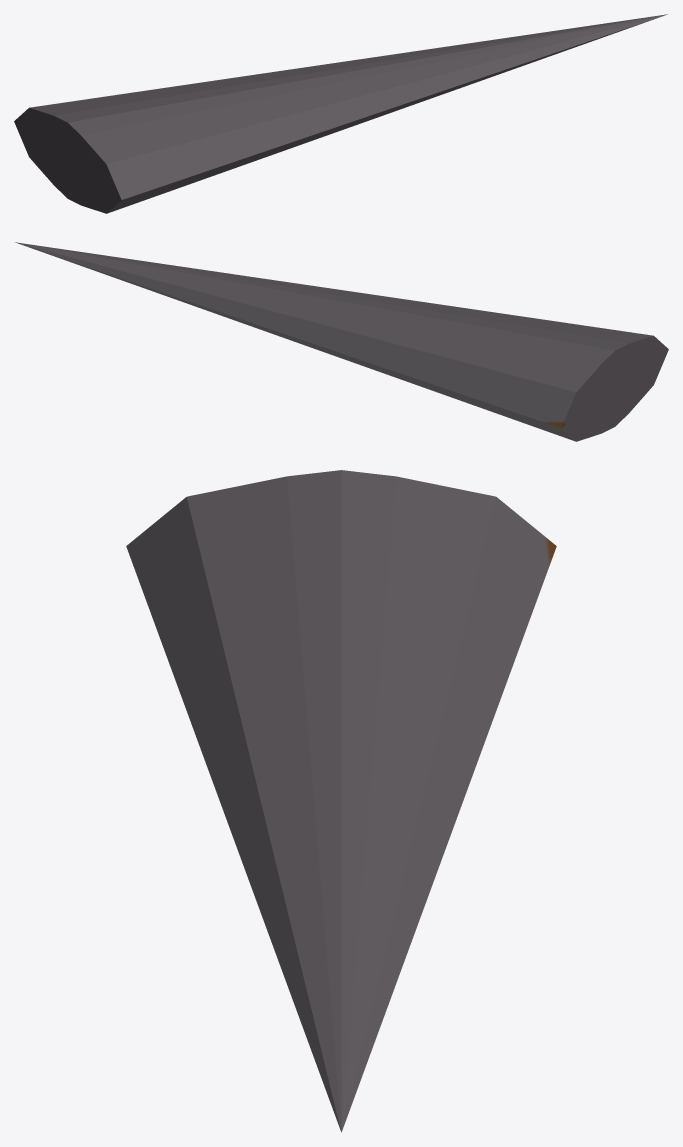
Rendered from Spear_Head.fbx.
3 views of the same model, one above another, from view 1: azimuth 30°, elevation 25°; view 2: azimuth 150°, elevation 25°; view 3: azimuth 270°, elevation 25° (orthographic). The views are drawn at different scales.
Parts seen in each view (by area): view 1: Spear_Head; view 2: Spear_Head; view 3: Spear_Head.
Part boxes in pixels (x1,y1,x2,y2): Spear_Head: (14, 14, 667, 213); Spear_Head: (15, 242, 668, 441); Spear_Head: (126, 470, 556, 1132).
Bounding box in the file's own units: 38.43 × 4.65 × 11.92.
1 material, 1 textured.
